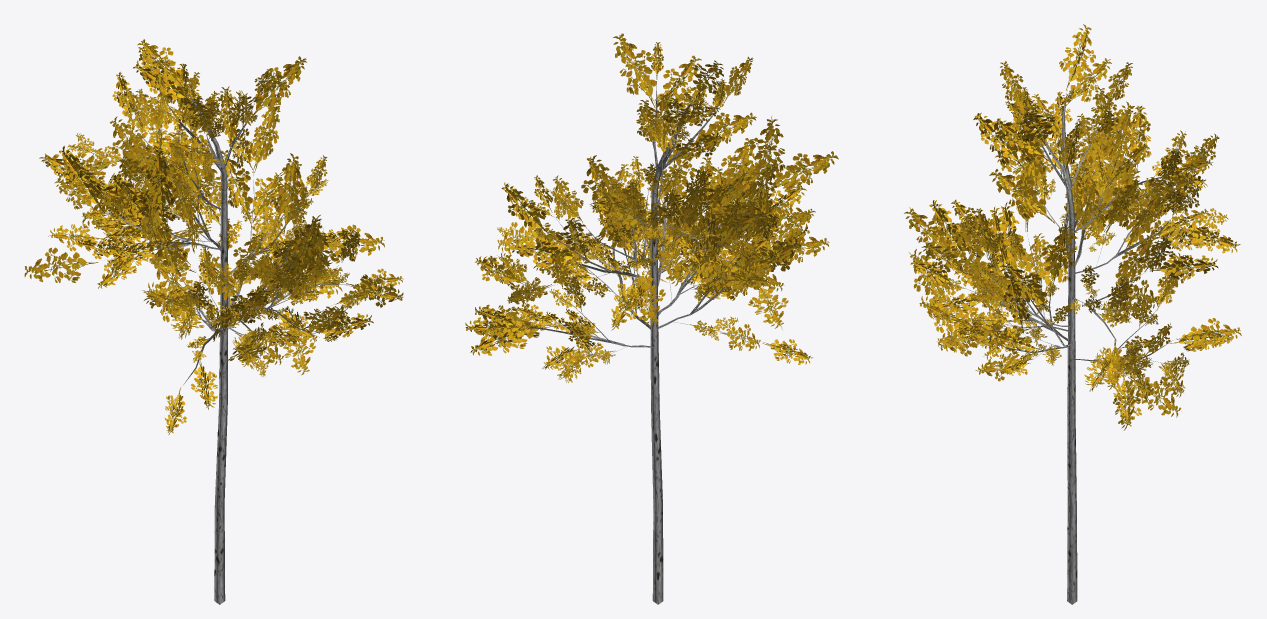
File: ez_aspen_a.glb
3 renders of one model, left to right at view 1: azimuth 30°, elevation 25°; view 2: azimuth 150°, elevation 25°; view 3: azimuth 270°, elevation 25°, orthographic. The views are drawn at different scales.
Visible parts, largest first — view 1: Tree; view 2: Tree; view 3: Tree.
Part boxes in pixels (x1=…): Tree: x1=24, y1=39, x2=403, y2=604; Tree: x1=465, y1=33, x2=838, y2=604; Tree: x1=904, y1=24, x2=1241, y2=604.
Bounding box in the file's own units: 48.9 × 74.73 × 44.94.
Materials: 2 (2 with a texture image).
